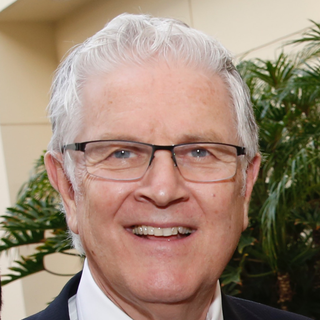eye: (94, 143, 145, 167), (175, 143, 221, 166)
